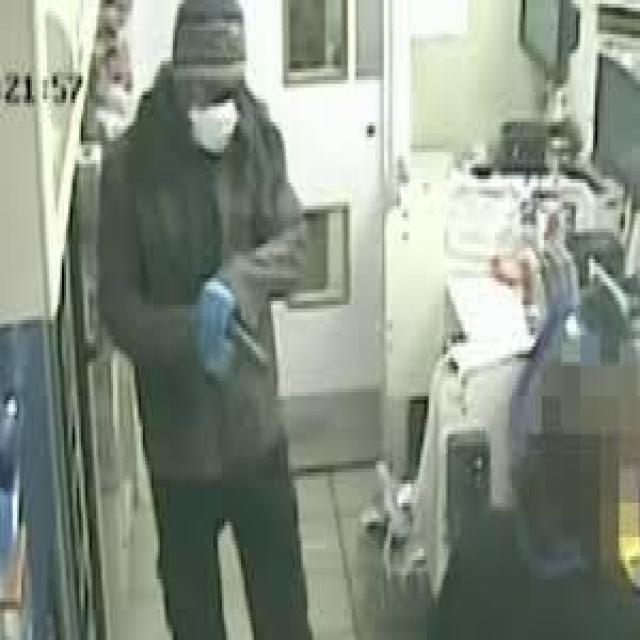weapon: (207, 297, 273, 385)
